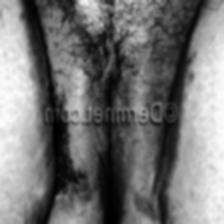Non-Cancerous Skin Condition: (114, 114, 195, 209), (28, 1, 104, 64), (44, 127, 84, 222), (134, 19, 180, 82)
